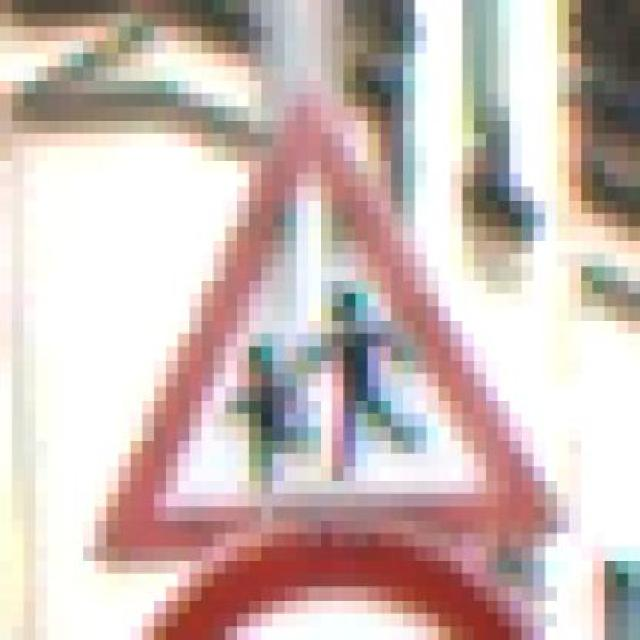Beware of children: (71, 93, 557, 573)
